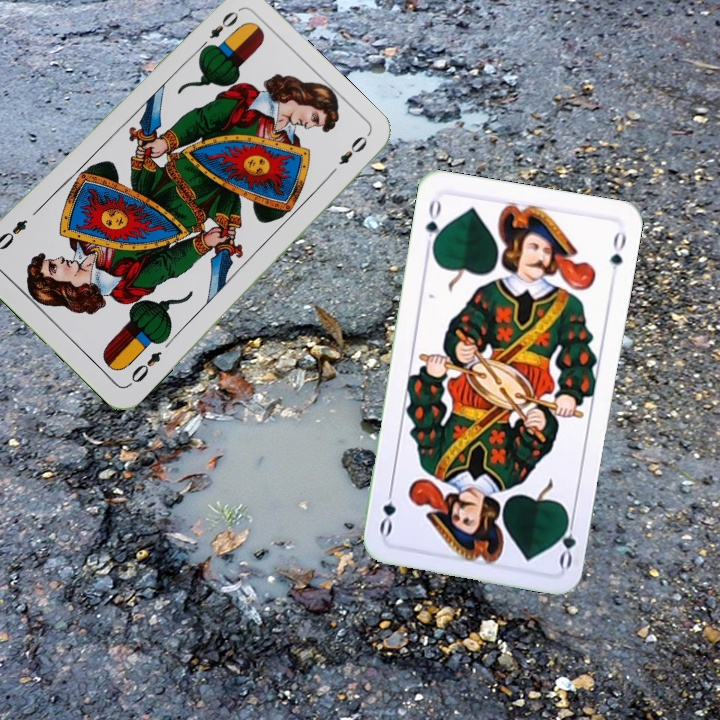EO: (195, 6, 241, 54), (124, 347, 165, 389)
GO: (554, 510, 579, 570), (421, 195, 446, 254)
